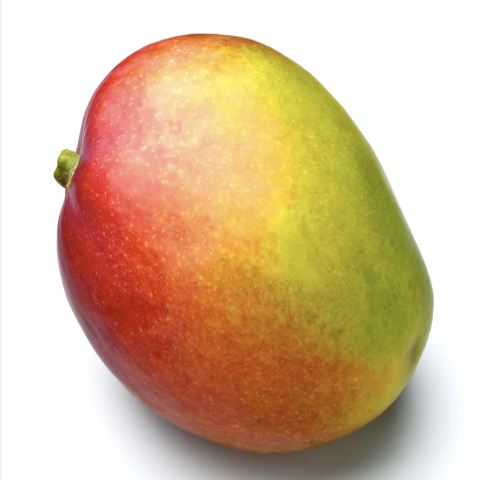mango: (20, 1, 467, 473)
